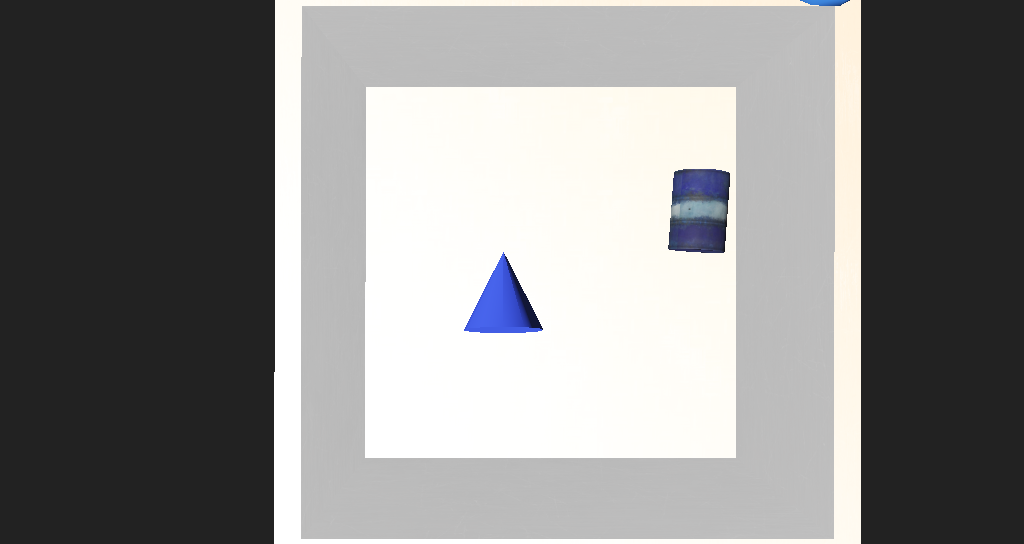cone: (596, 210, 657, 258)
cylinder: (435, 255, 495, 308)
sphere: (657, 69, 744, 131)
